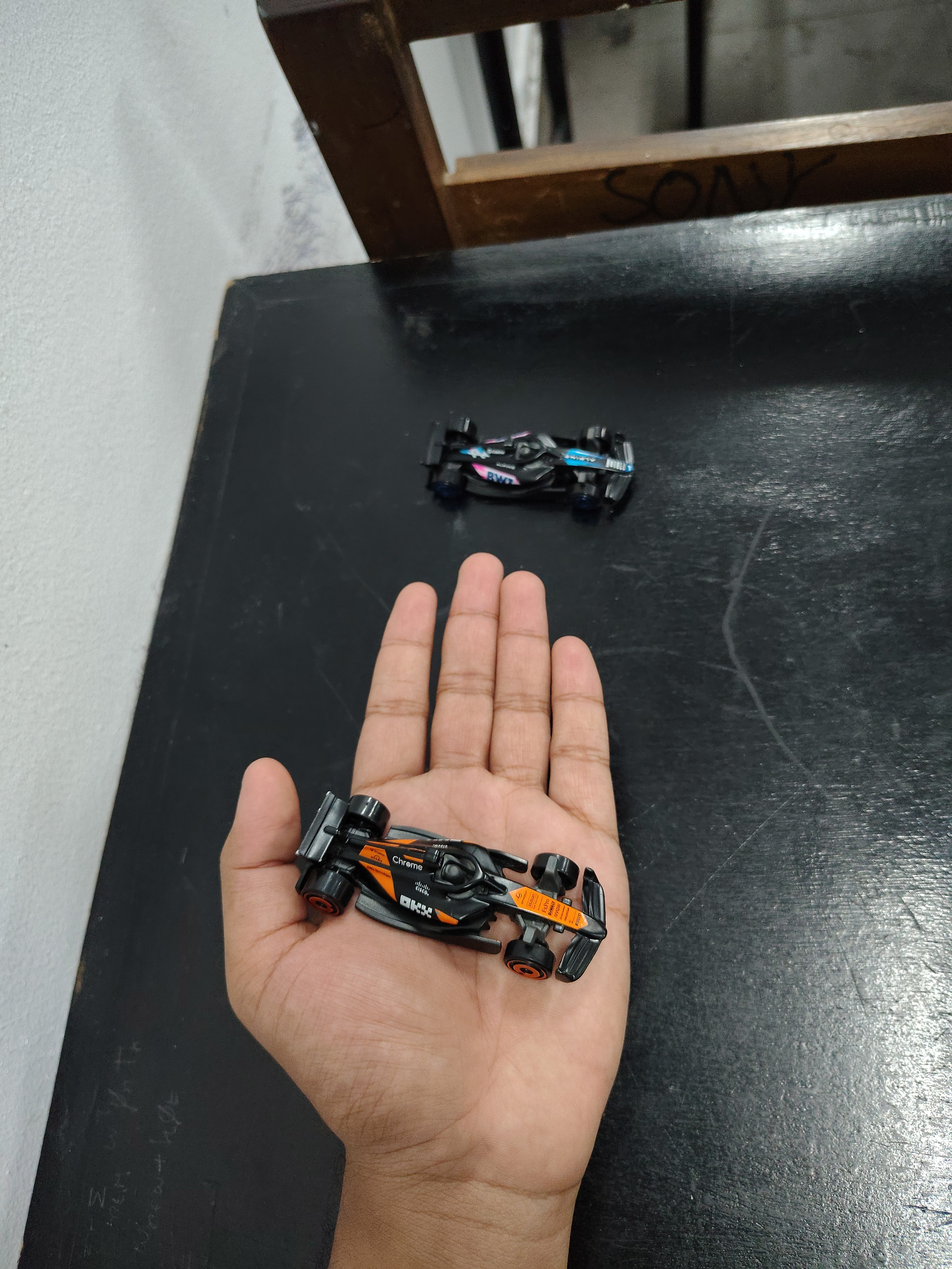Alpine A524: (408, 395, 669, 572)
McLaren MCL40: (225, 745, 626, 1039)
